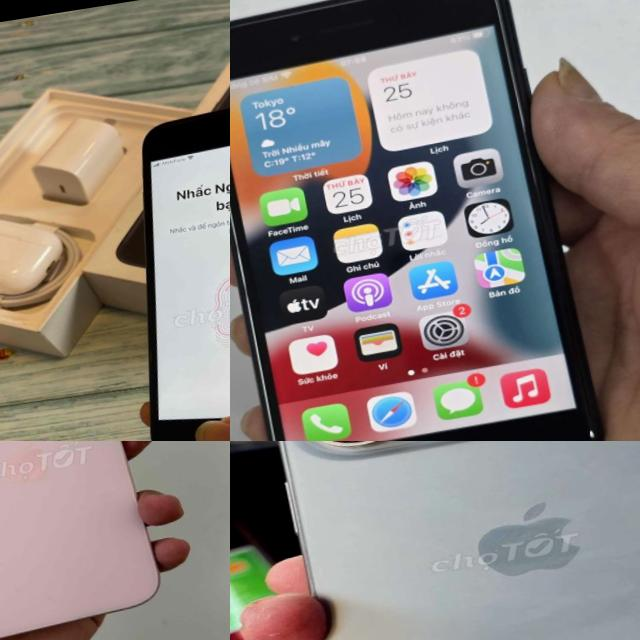gen_15: (230, 441, 640, 640), (0, 441, 218, 640)
gen_7_8: (230, 0, 620, 441), (95, 79, 230, 441)
